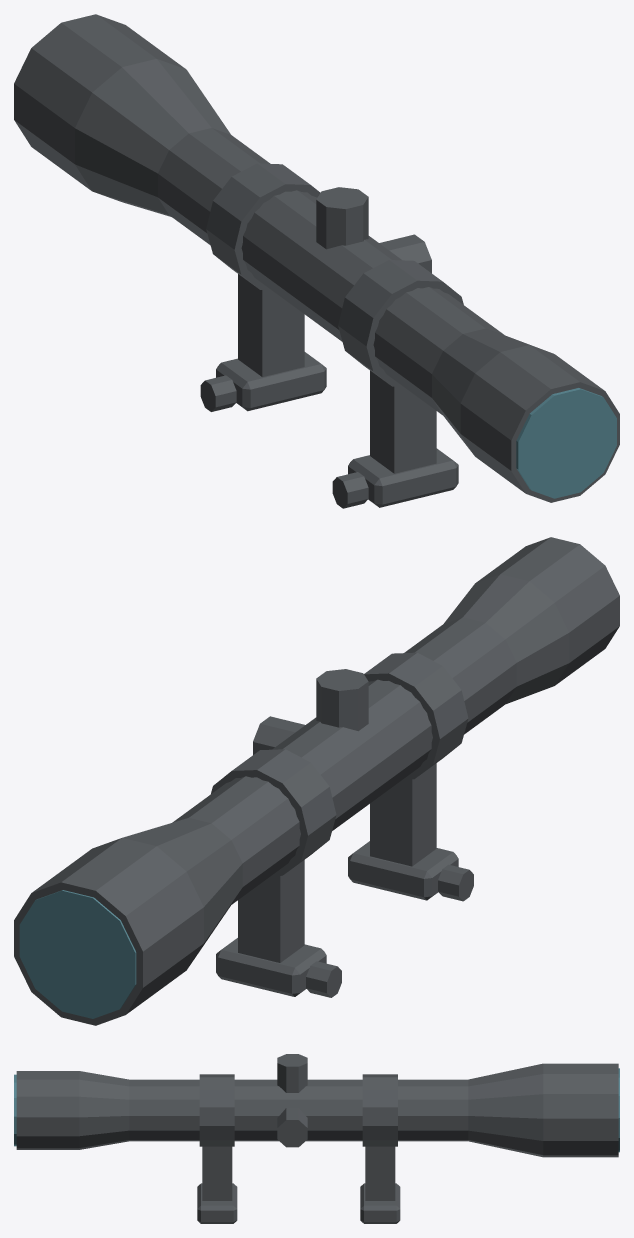
File: scope3x.glb
The picture shows the model from 3 angles, top to bottom: view 1: azimuth 30°, elevation 25°; view 2: azimuth 150°, elevation 25°; view 3: azimuth 270°, elevation 25°; orthographic projection. The views are drawn at different scales.
Visible parts, largest first — view 1: body; view 2: body; view 3: body.
Part boxes in pixels (x1,y1,x2,y2): body: [14, 14, 619, 508]; body: [14, 537, 619, 1025]; body: [14, 1054, 619, 1223].
Size of the model in its own units: 0.0404 by 0.0675 by 0.2415.
